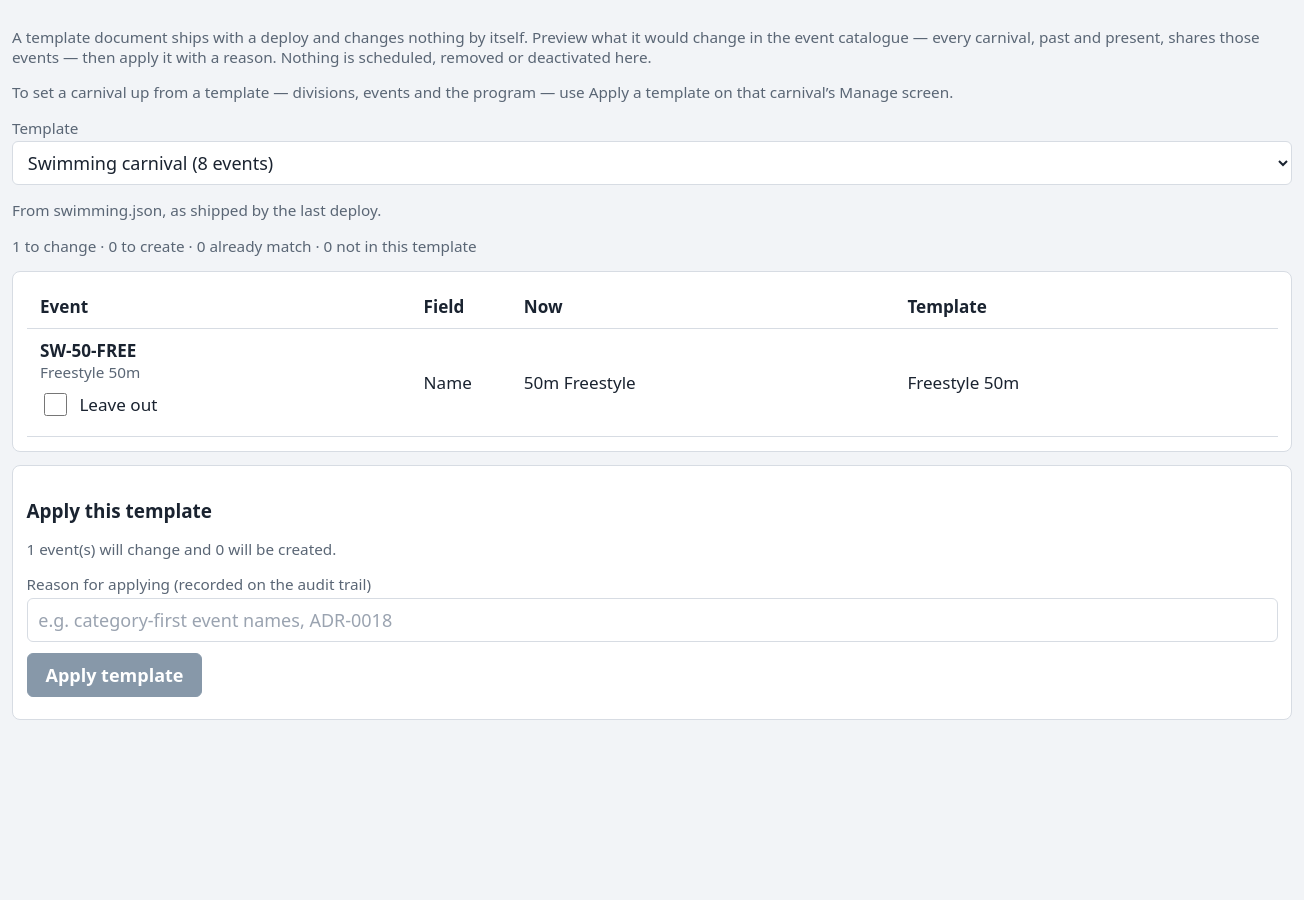
it: TemplatesSection › reports what an apply changed, naming the codes
This screenshot has width=1304, height=900.
In the field labelled "Reason for applying (recorded on the audit trail)": coordinates (652, 620) [26,598,1278,642], type "Category-first names."
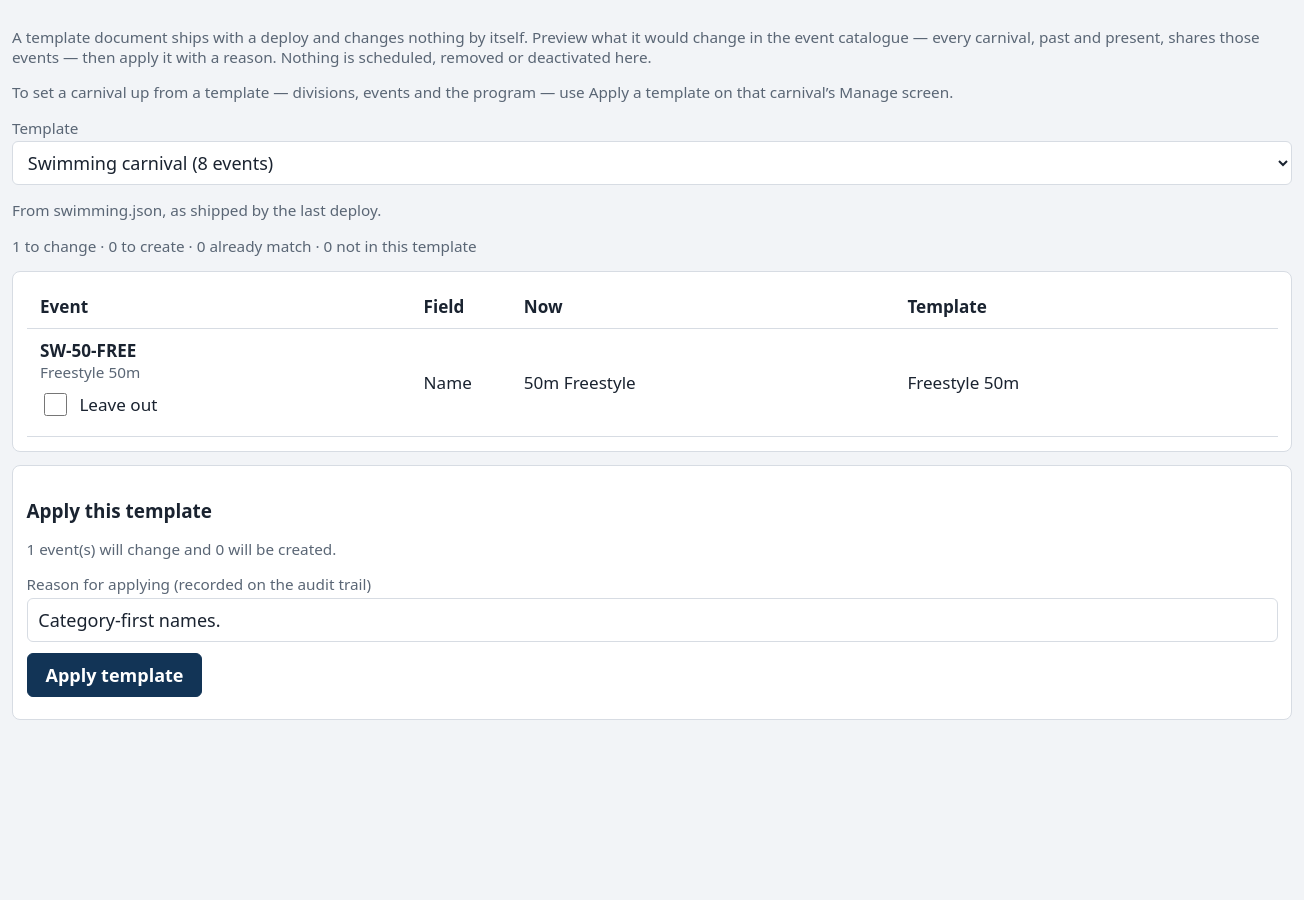
Click the button "Apply template": coordinates (114, 675) [26,653,202,697]
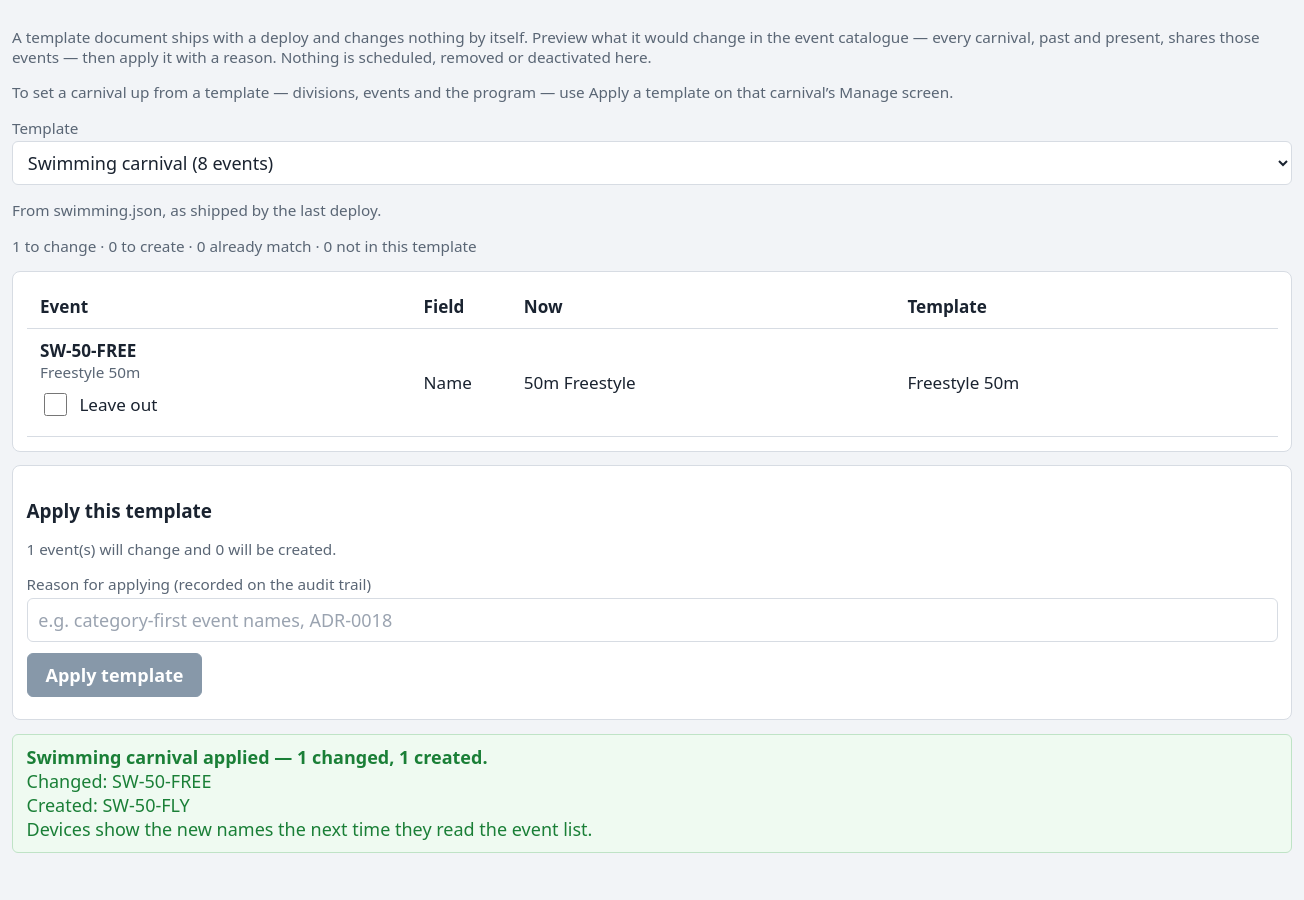
Expected: the text "Swimming carnival applied — 1 changed, 1 created." is shown, [26,745,488,769]
Expected: the text "Changed: SW-50-FREE" is shown, [26,769,211,793]
Expected: the text "Created: SW-50-FLY" is shown, [26,793,190,817]
